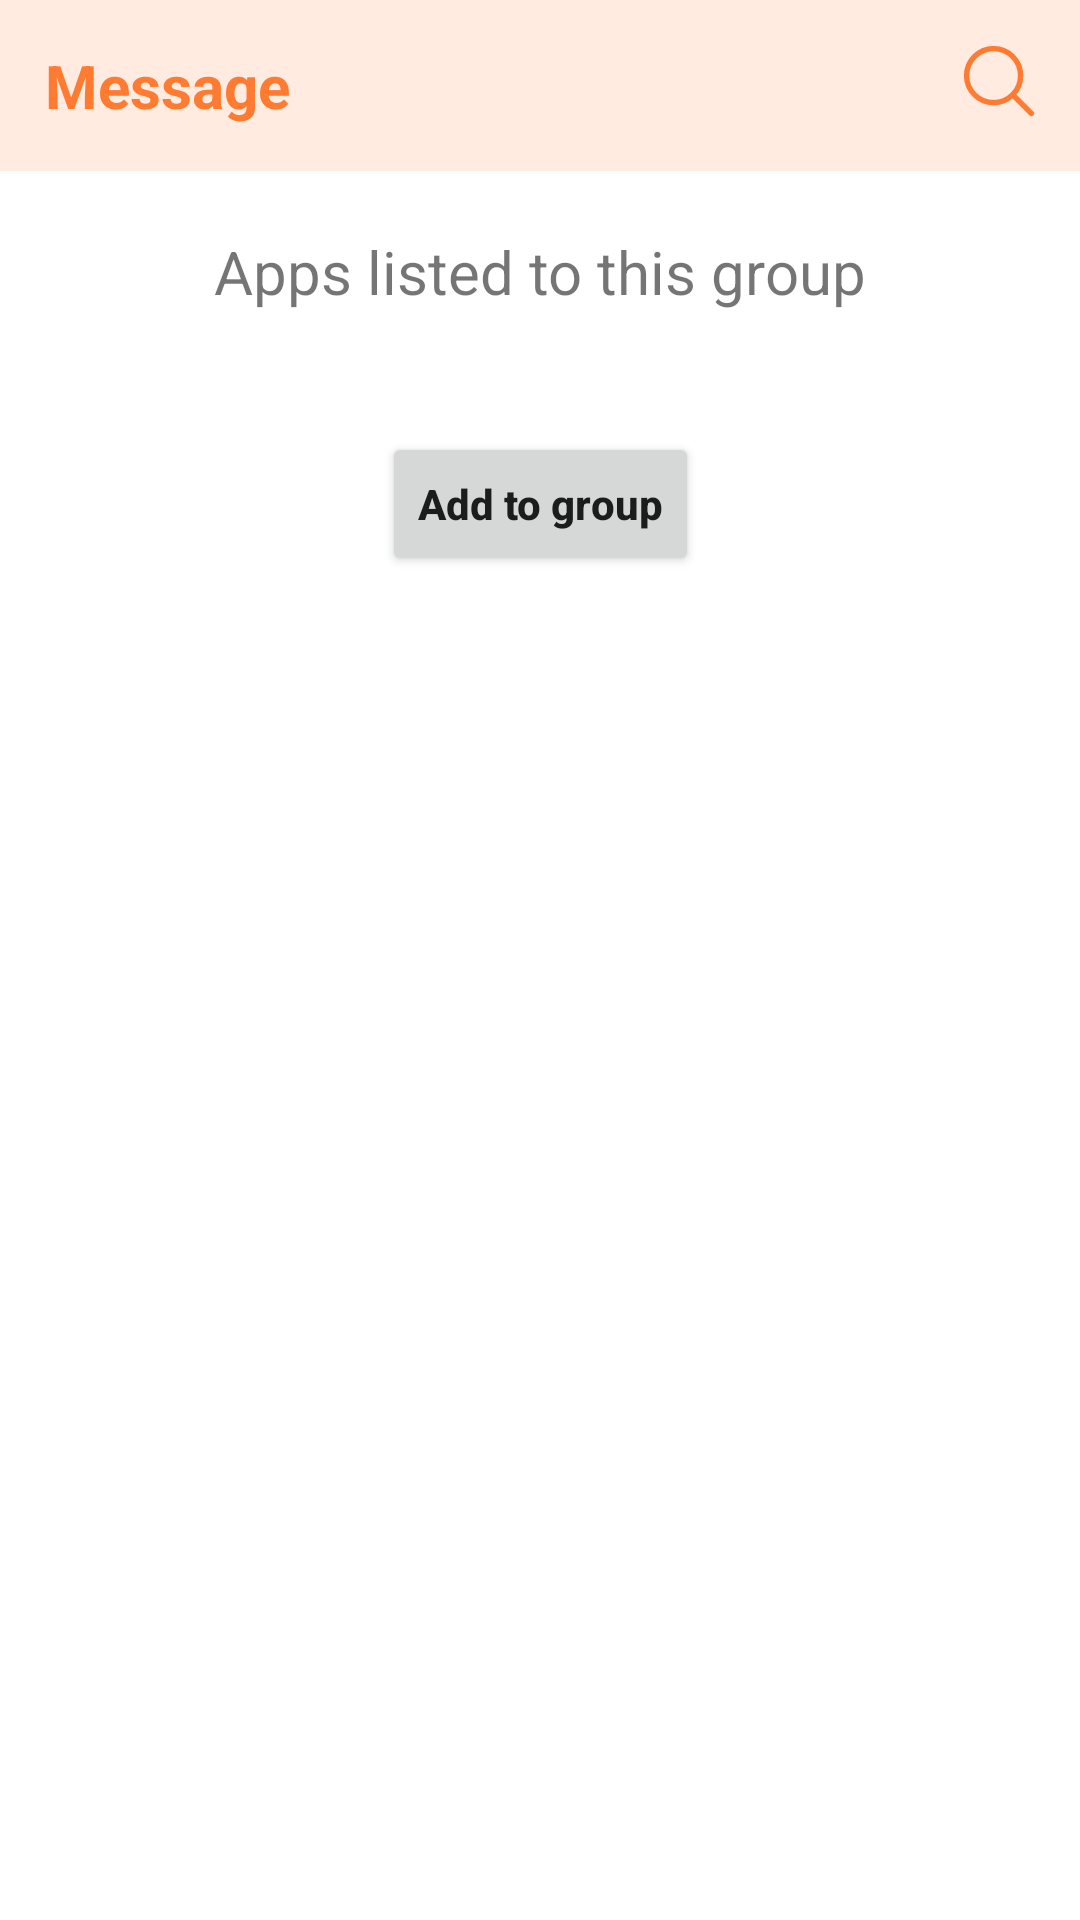

Point at icon controls on the screen. Image size 1080x1920, points as (x=x, y=y).
search: (x=999, y=81)
